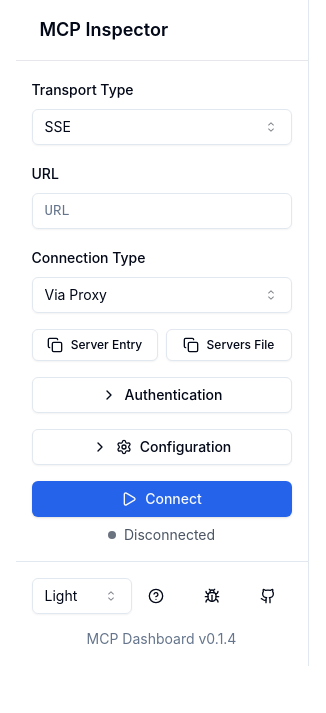
Test: Sidebar › Authentication › should display placeholder for header name when no headers exist
Click the button with test id "auth-button": click(162, 395) [32,377,292,413]
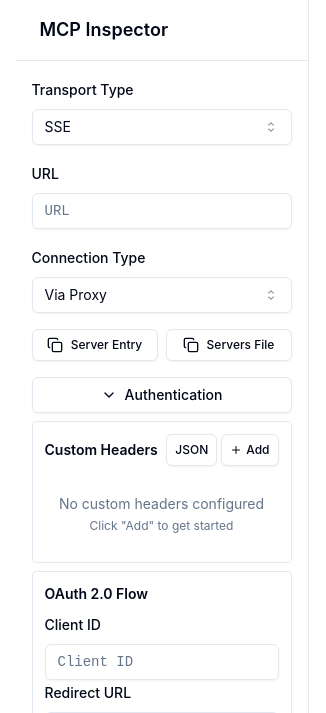
Result: the text "No custom headers configured" is shown at [44,494,278,514]
Result: the text "Click \"Add\" to get started" is shown at [90,518,233,533]
Result: the button with test id "add-header-button" is shown at [221,434,279,466]
